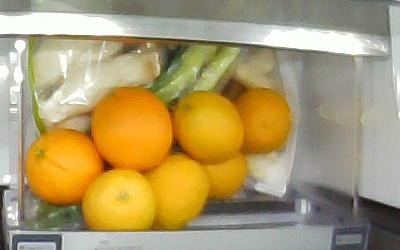orange: (92, 86, 172, 173), (24, 128, 103, 206), (138, 150, 209, 228), (171, 91, 244, 164), (83, 170, 154, 230), (235, 89, 293, 154), (200, 150, 247, 199)
